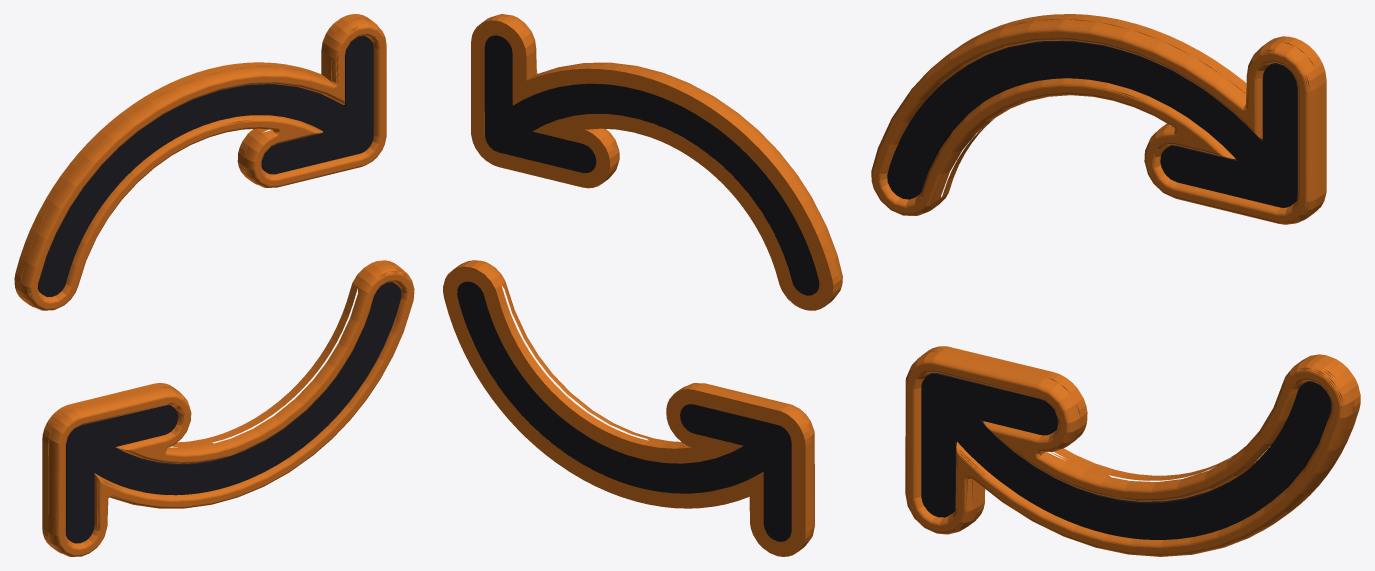
The model's file is cycles_t1.glb.
3 renders of one model, left to right at view 1: azimuth 30°, elevation 25°; view 2: azimuth 150°, elevation 25°; view 3: azimuth 330°, elevation 25°, orthographic. The views are drawn at different scales.
Visible parts, largest first — view 1: mark, mark_channel; view 2: mark, mark_channel; view 3: mark, mark_channel.
Part boxes in pixels (left/top/right/bottom): mark: left=14, top=14, right=414, bottom=556; mark_channel: left=38, top=35, right=401, bottom=543; mark: left=443, top=14, right=842, bottom=556; mark_channel: left=457, top=35, right=819, bottom=541; mark: left=871, top=14, right=1360, bottom=556; mark_channel: left=887, top=40, right=1331, bottom=539.
Bounding box in the file's own units: 0.4198 × 0.4799 × 0.024.
